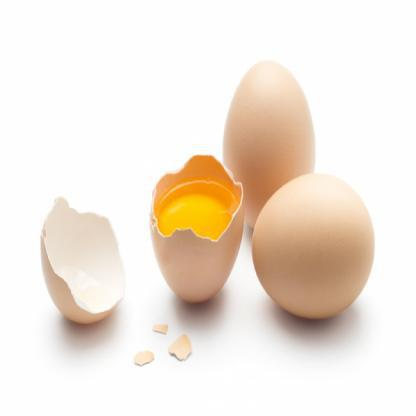egg: (245, 166, 385, 330), (216, 56, 328, 227)
